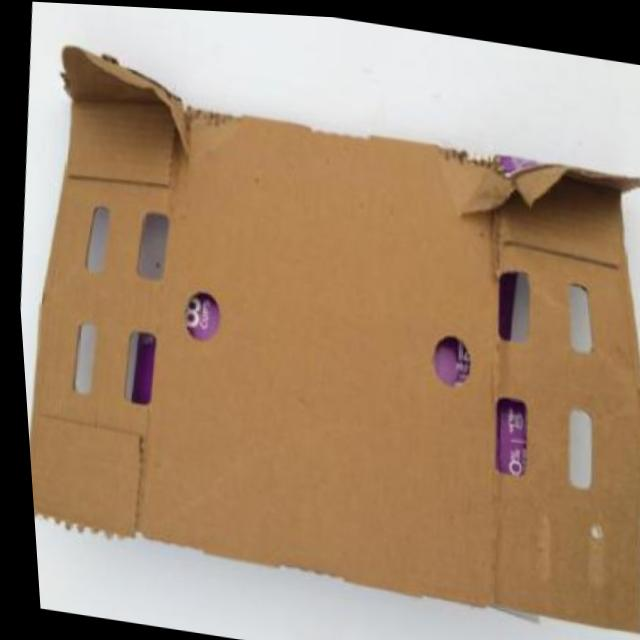box: (1, 12, 640, 640)
